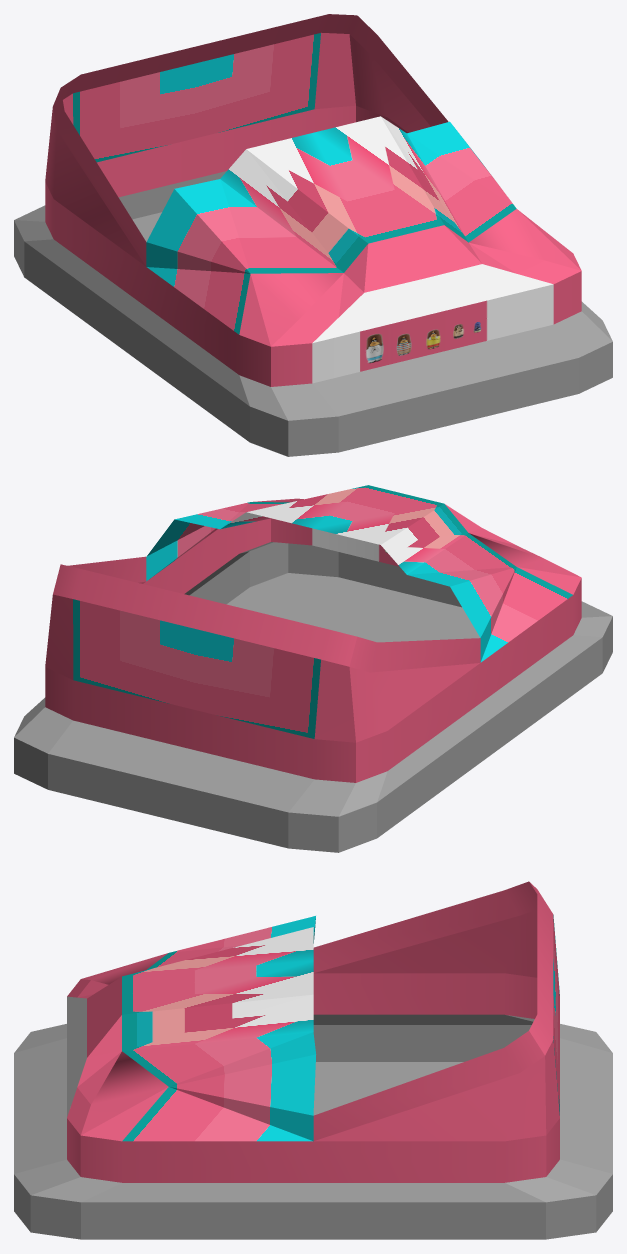
File: AutoTampoR.fbx
3 views of the same model, one above another, from view 1: azimuth 30°, elevation 25°; view 2: azimuth 150°, elevation 25°; view 3: azimuth 270°, elevation 25° (orthographic). The views are drawn at different scales.
Visible parts, largest first — view 1: Auto-Tamponneuse_002; view 2: Auto-Tamponneuse_002; view 3: Auto-Tamponneuse_002.
Boxes of the visible parts, x1=… form: Auto-Tamponneuse_002: x1=14, y1=14, x2=612, y2=456; Auto-Tamponneuse_002: x1=14, y1=485, x2=612, y2=852; Auto-Tamponneuse_002: x1=14, y1=881, x2=612, y2=1239.
Size of the model in its own units: 142 by 74.28 by 202.
1 material, 1 textured.
